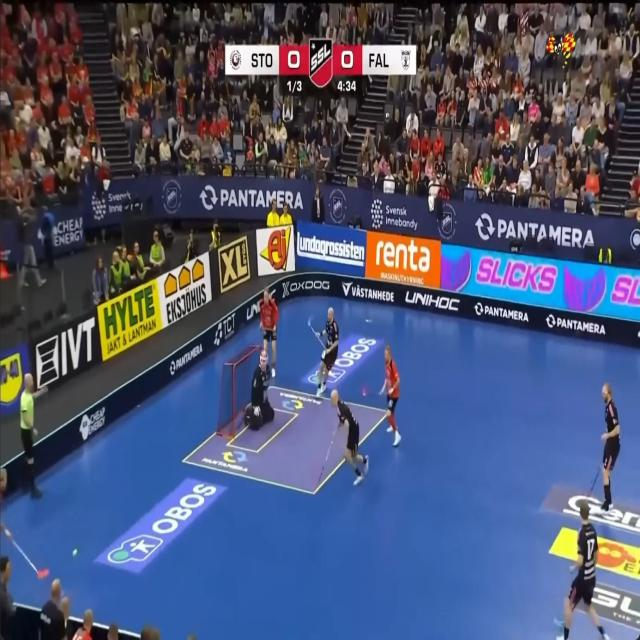Balls: (72, 548, 78, 556)
player: (556, 500, 609, 639), (331, 389, 368, 485), (600, 382, 620, 510), (245, 350, 274, 429), (380, 345, 401, 446), (315, 307, 339, 395), (260, 287, 278, 377)
stick: (316, 423, 339, 485), (13, 539, 48, 578), (307, 317, 325, 347), (587, 466, 600, 496), (362, 382, 386, 395), (32, 385, 48, 398), (554, 618, 564, 627), (315, 372, 319, 382)
